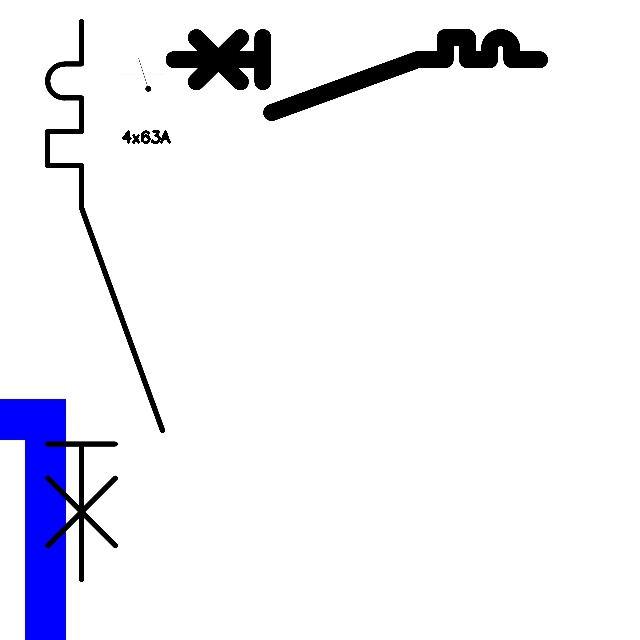interruptor_termomagnetico: (33, 7, 176, 593), (164, 28, 549, 122)
